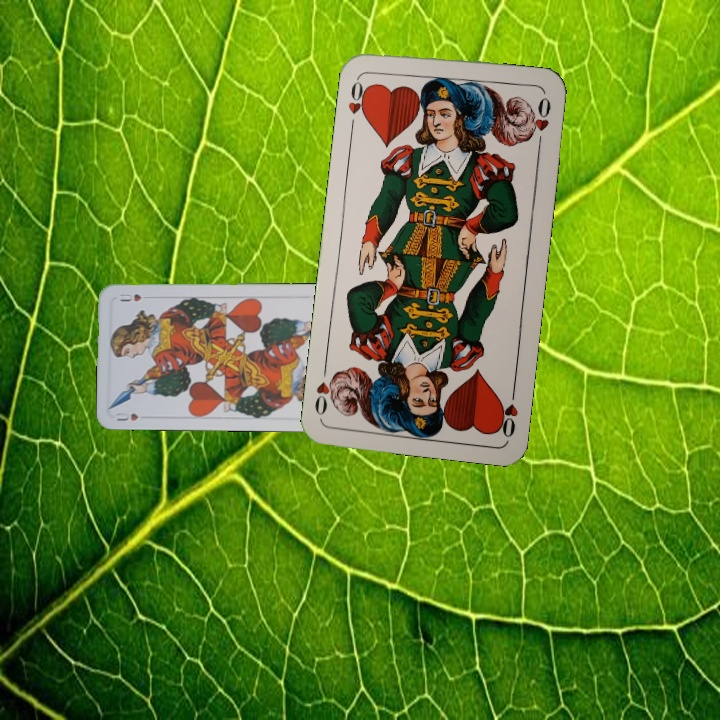HO: (344, 72, 372, 131), (493, 381, 521, 440)
HU: (112, 409, 141, 423)
